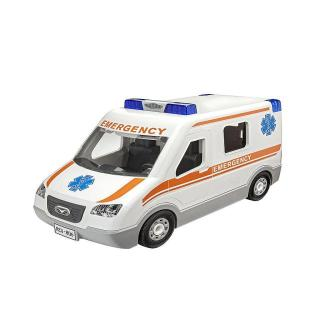Ambulance: (26, 71, 300, 283)
